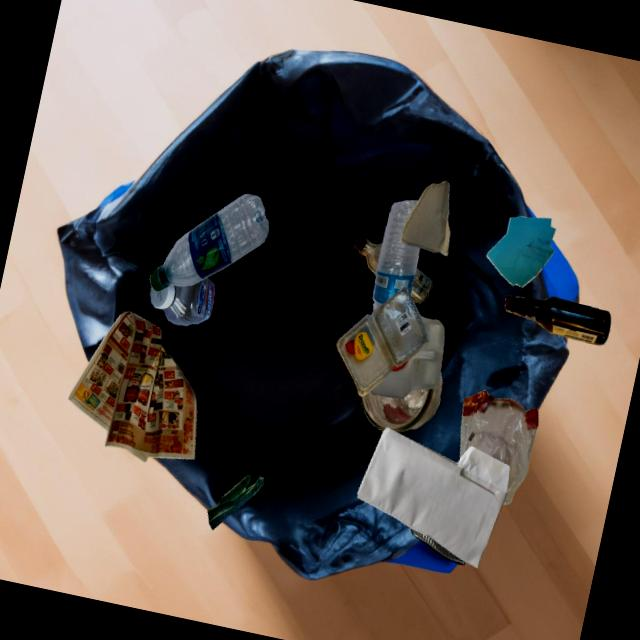biowaste: (207, 475, 263, 529)
cardboard: (400, 181, 450, 256)
glass: (504, 295, 610, 345), (360, 371, 442, 432), (354, 236, 382, 275), (410, 267, 432, 304)
metal: (411, 528, 465, 565)
paper: (357, 427, 509, 568), (68, 311, 196, 462), (486, 215, 555, 287)
plastic: (149, 193, 268, 291), (336, 287, 429, 396), (459, 390, 538, 505), (369, 315, 444, 399), (372, 200, 420, 310), (149, 277, 214, 326)
